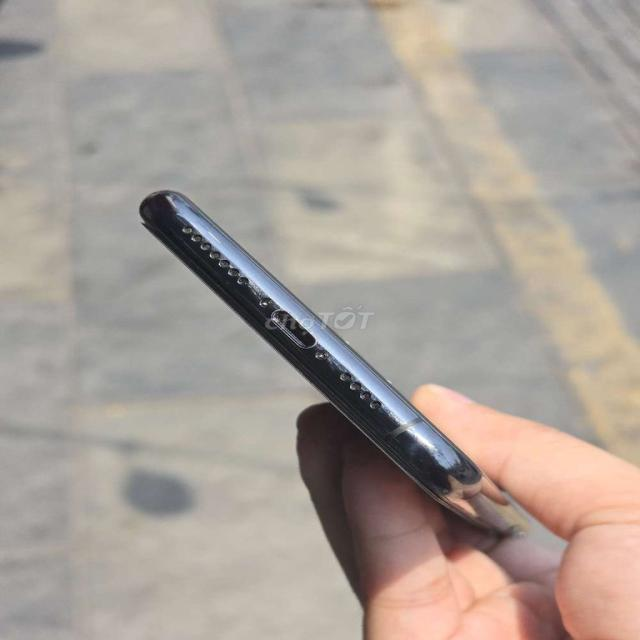gen_11: (132, 190, 533, 541)
